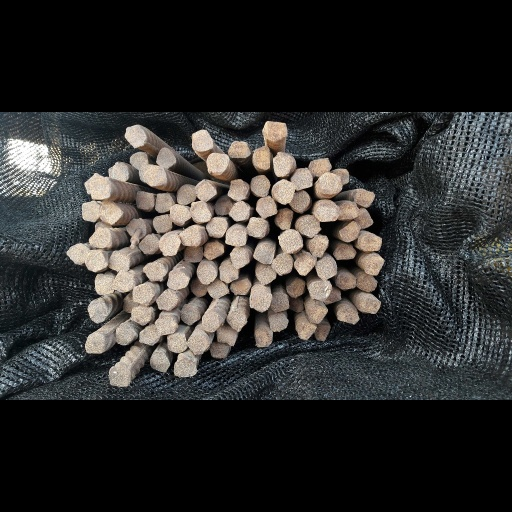dipstick: (122, 125, 147, 149), (278, 228, 302, 252), (295, 214, 320, 237), (314, 199, 339, 221), (149, 350, 171, 375), (141, 164, 164, 187), (338, 220, 361, 243), (114, 324, 137, 347), (319, 173, 343, 195), (273, 152, 295, 175), (249, 290, 271, 313), (201, 310, 223, 333), (196, 261, 218, 284), (173, 356, 197, 377), (273, 179, 293, 204), (125, 219, 147, 241), (291, 167, 312, 190), (99, 201, 122, 222), (359, 231, 382, 252), (255, 197, 278, 218), (362, 254, 385, 275), (155, 290, 178, 311), (85, 301, 108, 322), (264, 120, 288, 140), (336, 305, 360, 325), (92, 274, 117, 293), (170, 204, 191, 226), (190, 201, 211, 223), (294, 255, 316, 276), (253, 243, 274, 265), (133, 284, 154, 306), (291, 189, 311, 212), (308, 235, 328, 258), (358, 295, 381, 315), (185, 334, 208, 354), (132, 305, 156, 324), (108, 251, 129, 272), (227, 179, 248, 200), (315, 258, 336, 279), (271, 254, 292, 275), (226, 226, 247, 247), (226, 310, 247, 331), (180, 304, 201, 325), (89, 178, 111, 198), (196, 179, 216, 201), (206, 153, 228, 173), (66, 244, 88, 264), (86, 250, 106, 272), (180, 226, 202, 246), (216, 325, 238, 345), (139, 325, 161, 345), (142, 262, 164, 282), (85, 335, 107, 355), (251, 174, 270, 197), (155, 316, 178, 335), (80, 201, 101, 221), (246, 217, 266, 238), (229, 247, 249, 268), (218, 261, 239, 281), (160, 235, 180, 256), (113, 272, 134, 292), (107, 162, 129, 181), (191, 130, 213, 149), (353, 188, 375, 207), (228, 140, 251, 158), (308, 281, 331, 299), (254, 146, 271, 170), (206, 280, 230, 297), (270, 292, 290, 312), (253, 327, 273, 347), (156, 147, 175, 168), (89, 228, 110, 247), (140, 234, 159, 255), (151, 214, 172, 233), (229, 201, 250, 220), (255, 265, 276, 284), (206, 218, 227, 237), (229, 277, 250, 296), (307, 304, 329, 322), (166, 335, 189, 352), (165, 273, 189, 289), (129, 150, 148, 170), (110, 369, 130, 388), (136, 190, 154, 211), (175, 185, 196, 203), (337, 201, 358, 219), (336, 273, 357, 291), (309, 157, 331, 174), (357, 207, 374, 229), (155, 193, 174, 212), (119, 296, 138, 315), (358, 274, 378, 292), (334, 244, 356, 260), (286, 278, 305, 296), (209, 341, 228, 359), (269, 315, 289, 332), (203, 242, 224, 258), (276, 211, 294, 229), (287, 296, 305, 314), (190, 280, 208, 298), (83, 174, 100, 193), (298, 322, 315, 341), (185, 245, 204, 262), (215, 196, 231, 216), (324, 288, 342, 304), (314, 324, 330, 342), (92, 219, 111, 233), (332, 168, 349, 183)
